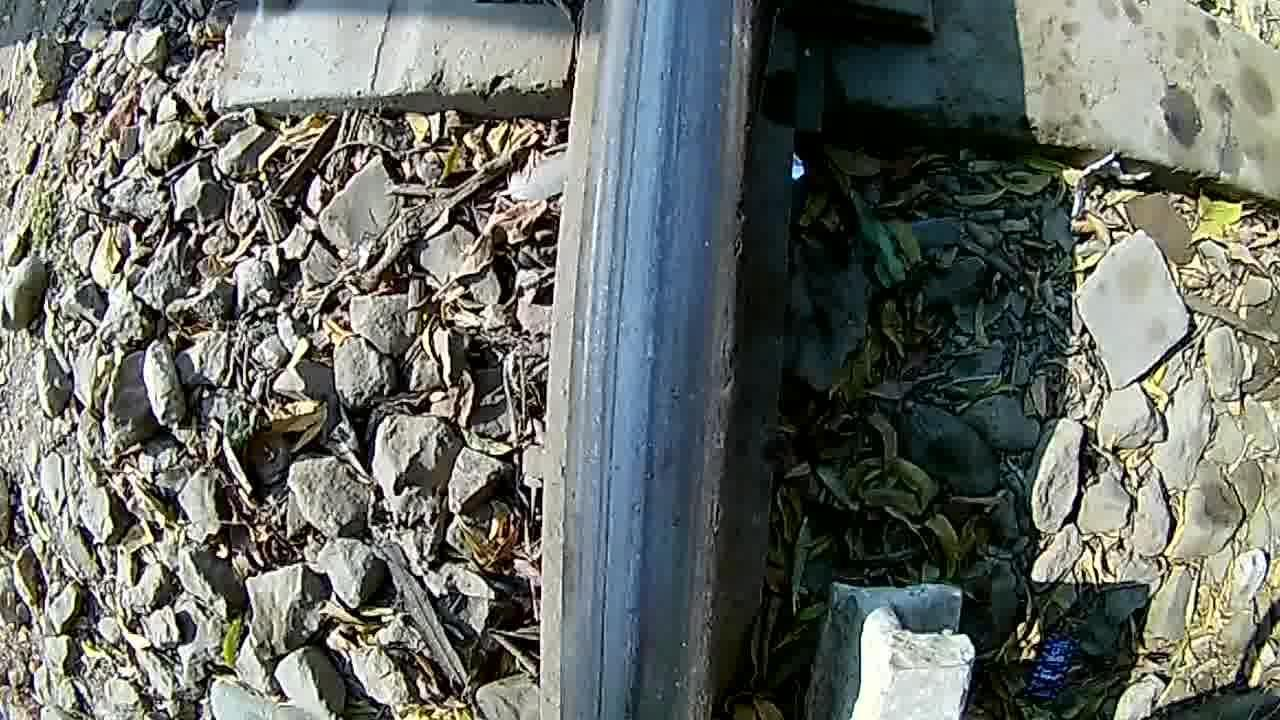crack: (556, 2, 763, 720)
